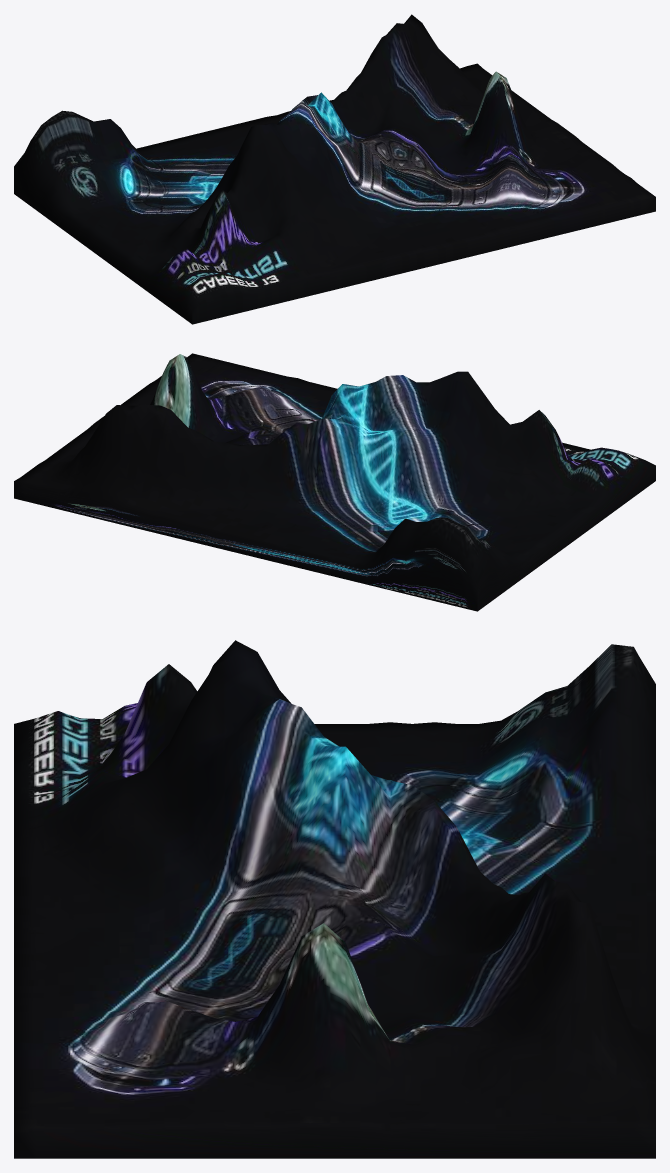
File: CAREER_13_Tool_04_DNA.glb
3 renders of one model, top to bottom at view 1: azimuth 30°, elevation 25°; view 2: azimuth 150°, elevation 25°; view 3: azimuth 270°, elevation 25°, orthographic. The views are drawn at different scales.
Parts seen in each view (by area): view 1: CAREER_13_Tool_04_DNA; view 2: CAREER_13_Tool_04_DNA; view 3: CAREER_13_Tool_04_DNA.
Part boxes in pixels (x1,y1,x2,y2): CAREER_13_Tool_04_DNA: [14, 14, 655, 324]; CAREER_13_Tool_04_DNA: [14, 353, 655, 611]; CAREER_13_Tool_04_DNA: [14, 640, 655, 1158].
Bounding box in the file's own units: 2 × 0.51 × 1.33.
Materials: 1 (1 with a texture image).
